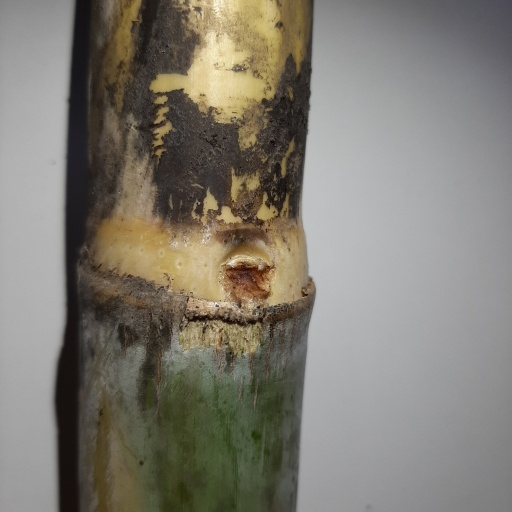Damage_Bud: (225, 246, 273, 304)
